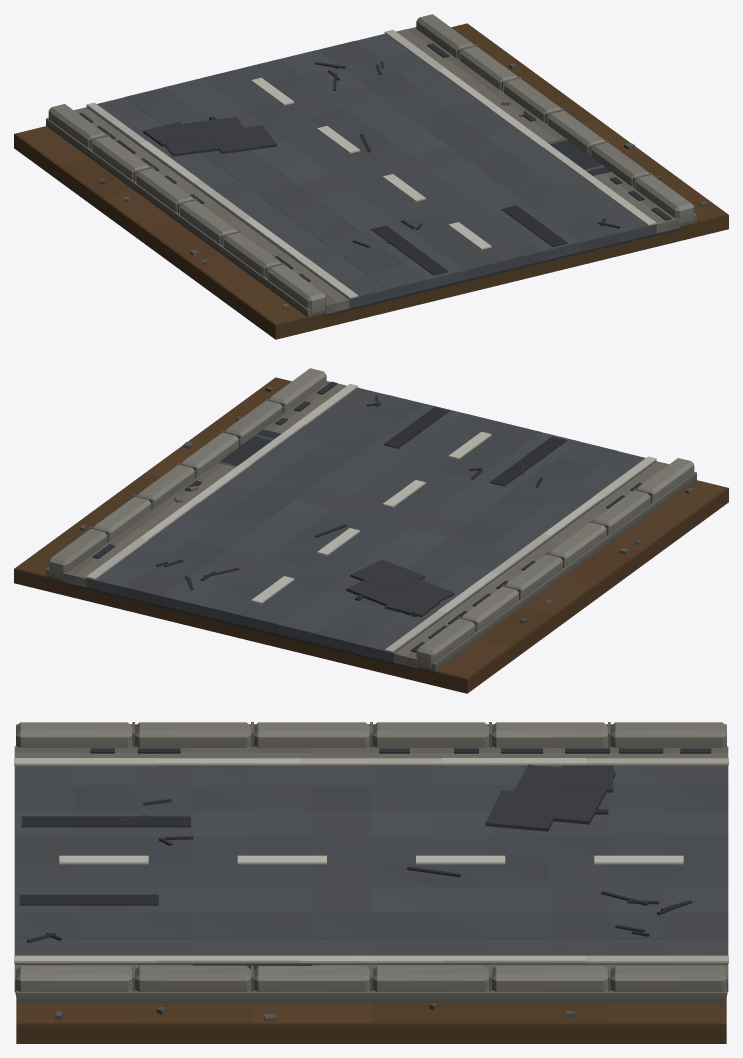
File: road-straight-01-user.glb
The picture shows the model from 3 angles, top to bottom: view 1: azimuth 30°, elevation 25°; view 2: azimuth 150°, elevation 25°; view 3: azimuth 270°, elevation 25°; orthographic projection. The views are drawn at different scales.
Visible parts, largest first — view 1: road_straight_01; view 2: road_straight_01; view 3: road_straight_01.
Part boxes in pixels (x1,y1,x2,y2): road_straight_01: (14, 14, 728, 339); road_straight_01: (14, 368, 728, 693); road_straight_01: (14, 722, 728, 1043).
Size of the model in its own units: 3.98 by 0.2809 by 4.01.
